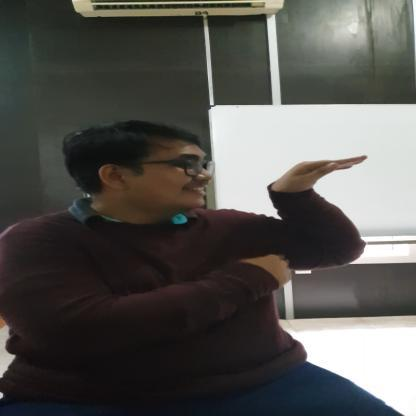Z: (256, 154, 378, 258)
